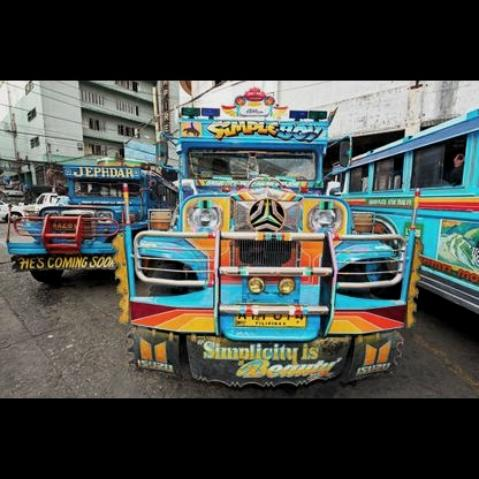jeepney: (123, 98, 419, 390), (8, 155, 173, 287)
